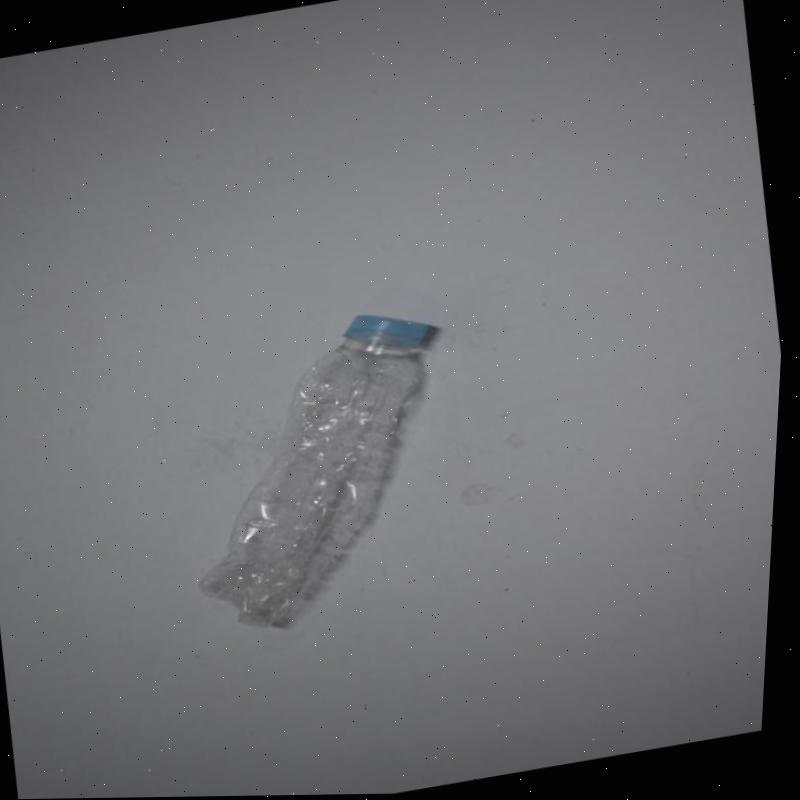botella: (166, 303, 482, 640)
